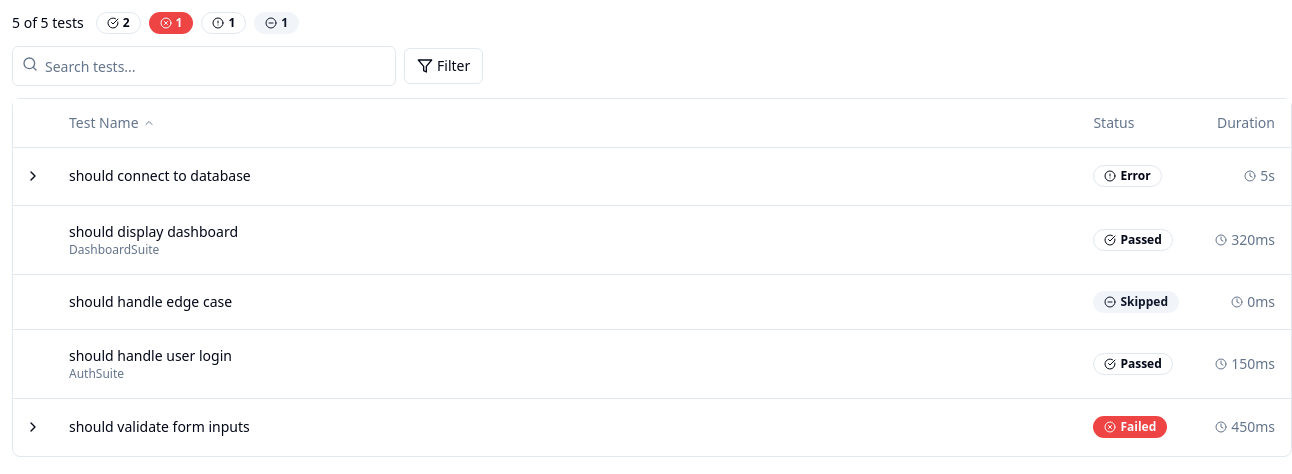
Test: TestResultsTable › Status Filter Dropdown › opens filter dropdown when clicking filter button
Step 1. Click the button "Filter" → (444,66), box [404, 48, 483, 84]
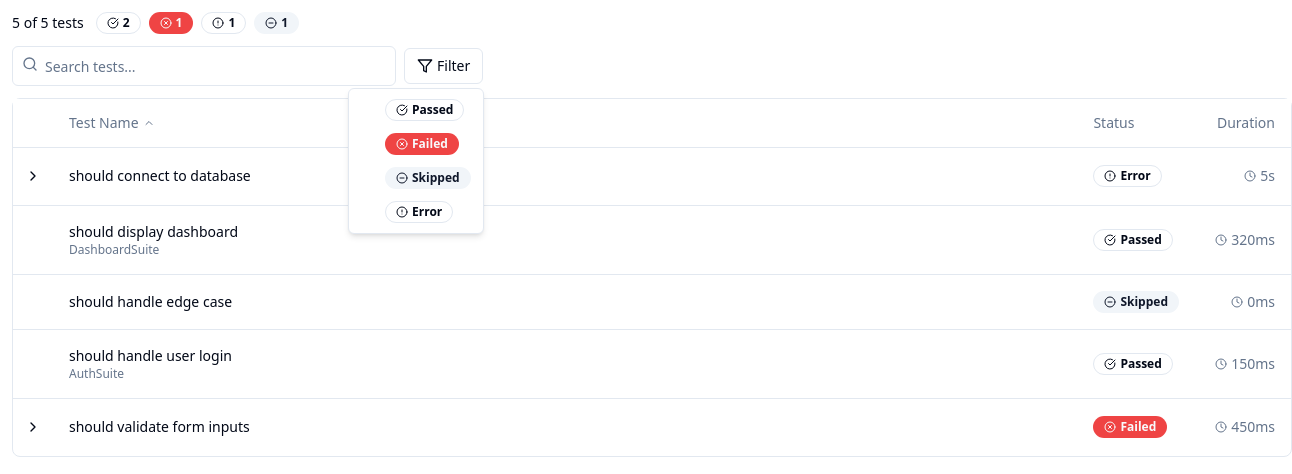
Expected: the menu item "Passed" is shown, [385, 99, 464, 121]
Expected: the menu item "Failed" is shown, [385, 133, 459, 155]
Expected: the menu item "Skipped" is shown, [385, 167, 471, 189]
